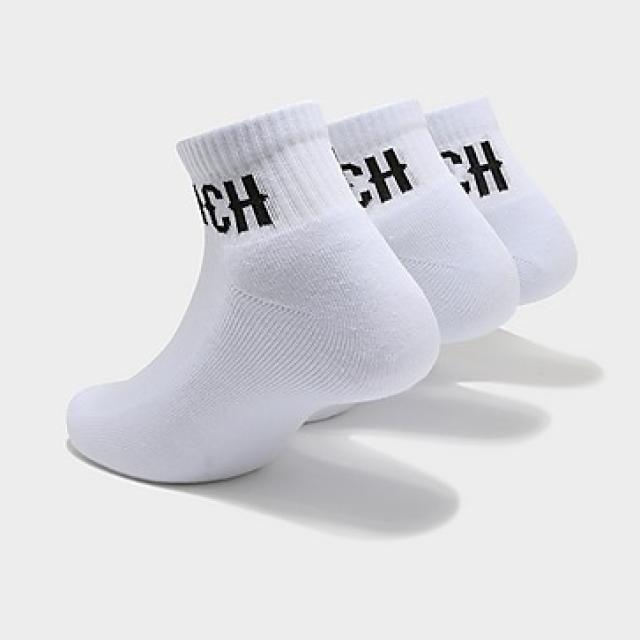sock: (63, 99, 441, 485), (325, 97, 520, 344), (423, 95, 577, 305)
